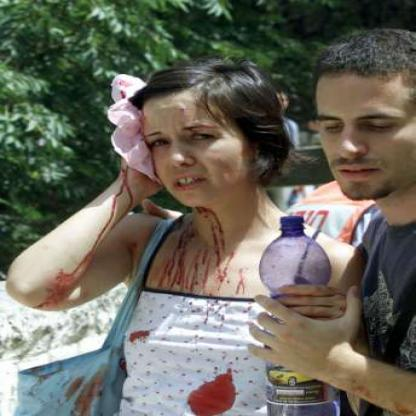face: (138, 73, 260, 210)
